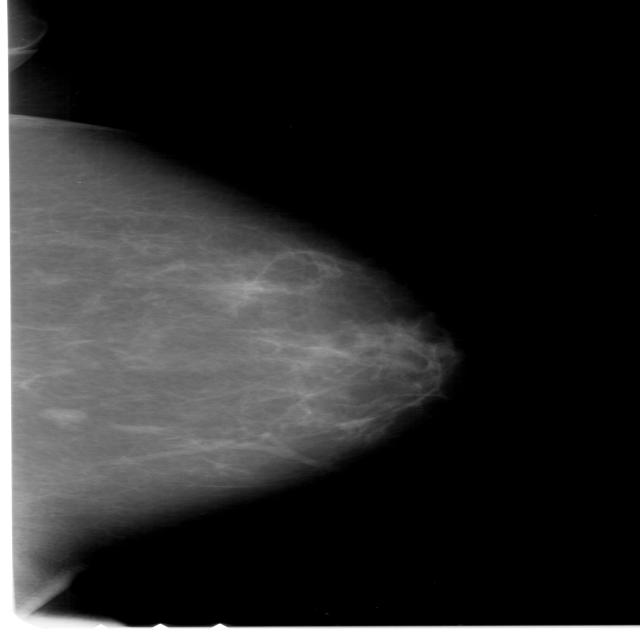normal: (0, 118, 469, 542)
